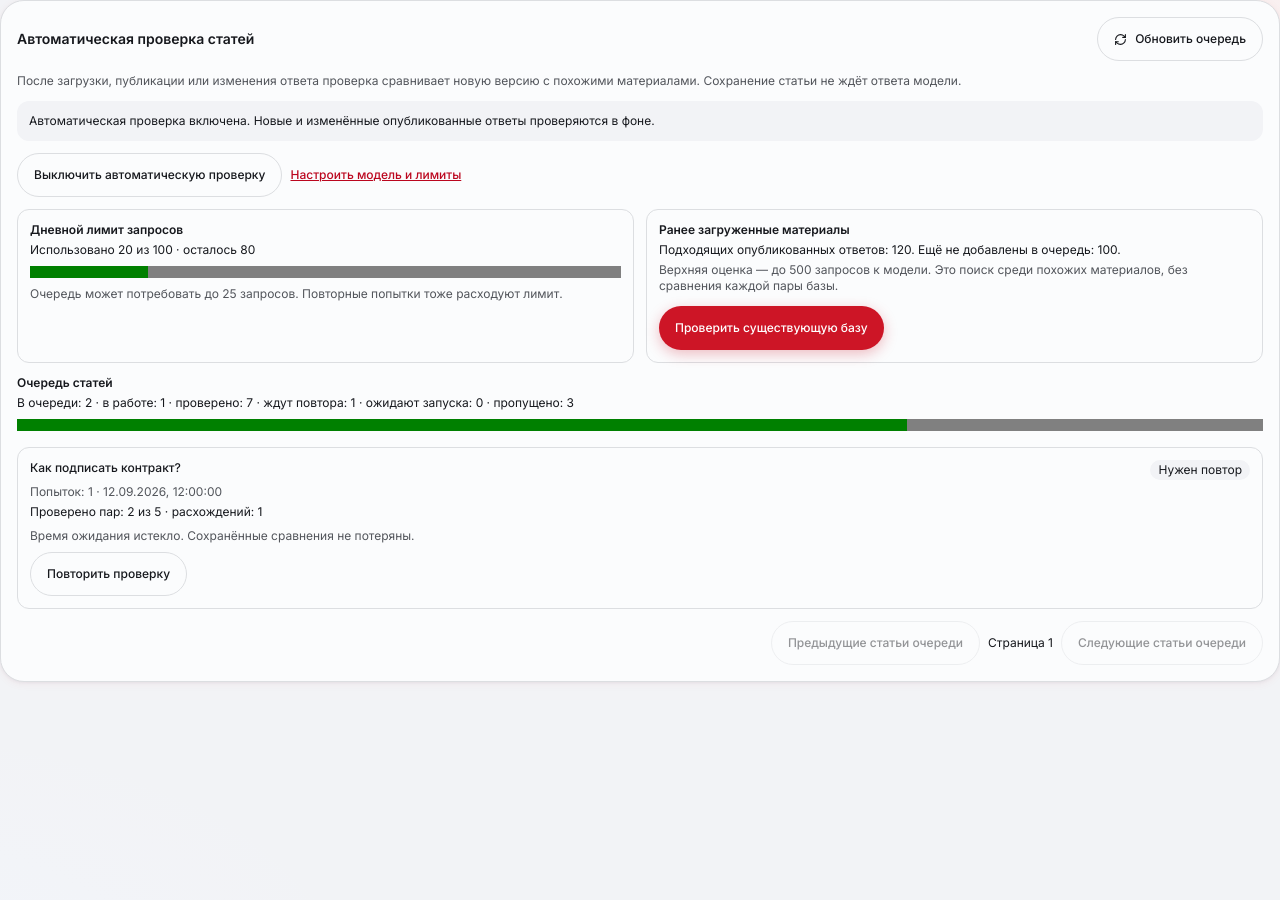
Test: Автоматическая проверка базы знаний › запускает проверку существующей базы с показанной оценкой без лишнего подтверждения
Click the button "Проверить существующую базу": (771, 328) [659,306,884,350]
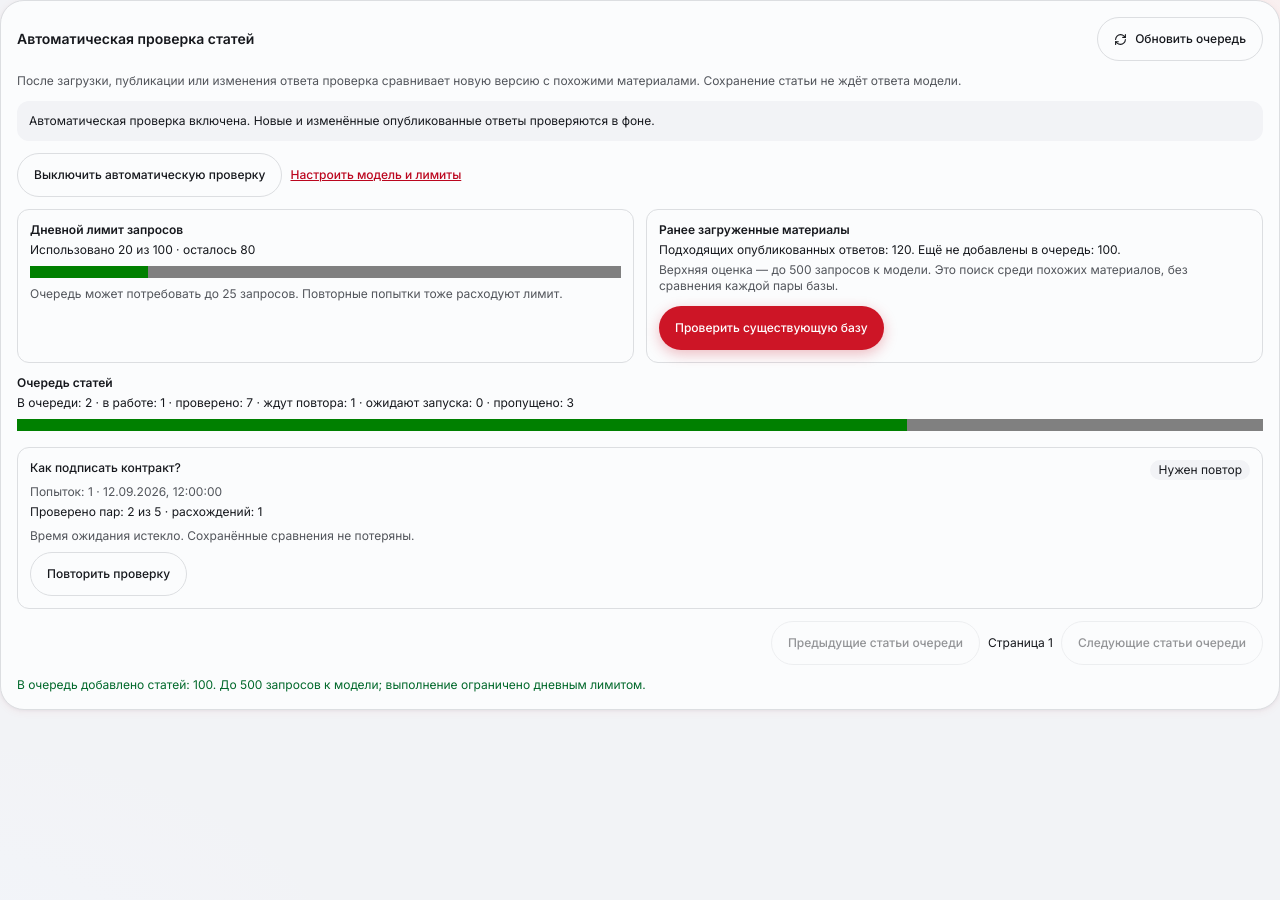
Result: the text "В очередь добавлено статей: 100" is shown at [17,677,646,692]
